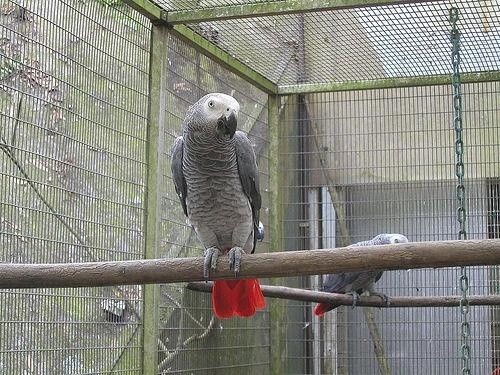bird: (172, 94, 274, 319), (316, 234, 409, 318)
